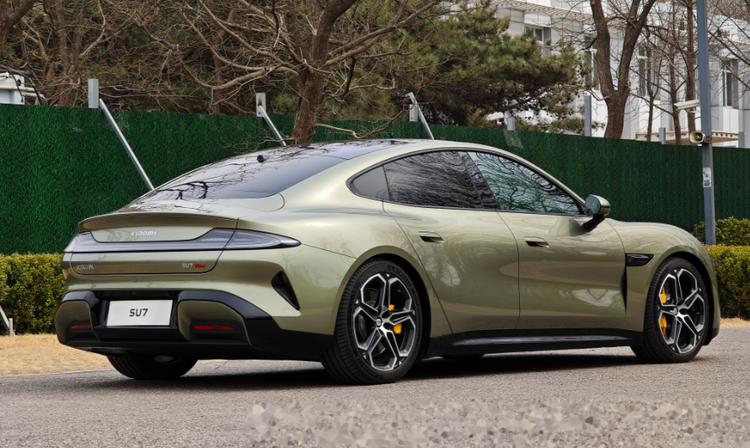su7: (56, 136, 722, 380)
